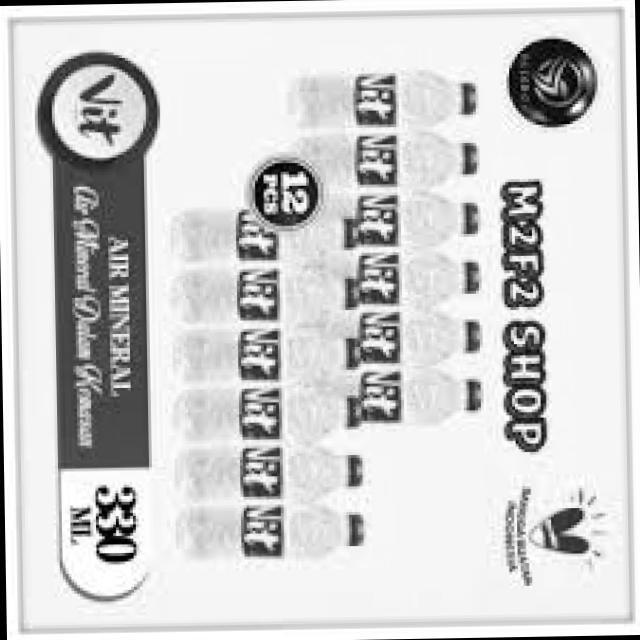good: (265, 46, 485, 148), (290, 104, 488, 200), (284, 238, 482, 318), (191, 182, 362, 274), (283, 176, 482, 255), (294, 294, 486, 374), (172, 498, 360, 572), (286, 362, 486, 431), (180, 259, 368, 332), (178, 320, 368, 390), (180, 440, 365, 498), (175, 386, 362, 436)
